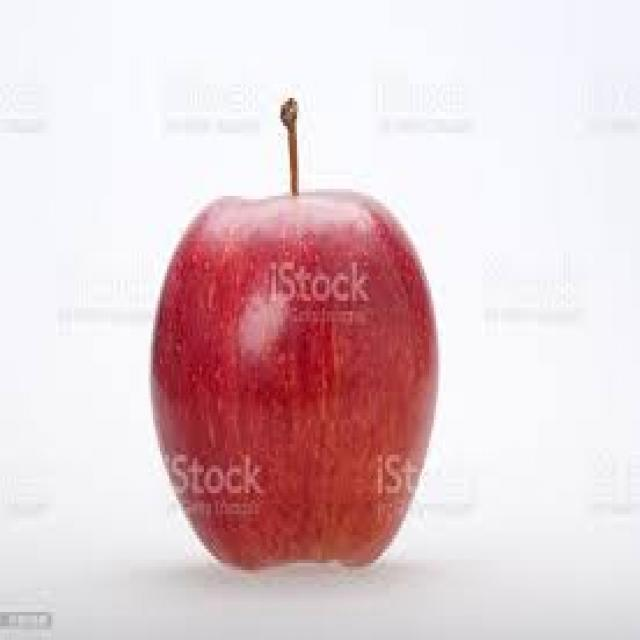Fresh Apple: (148, 185, 448, 577)
